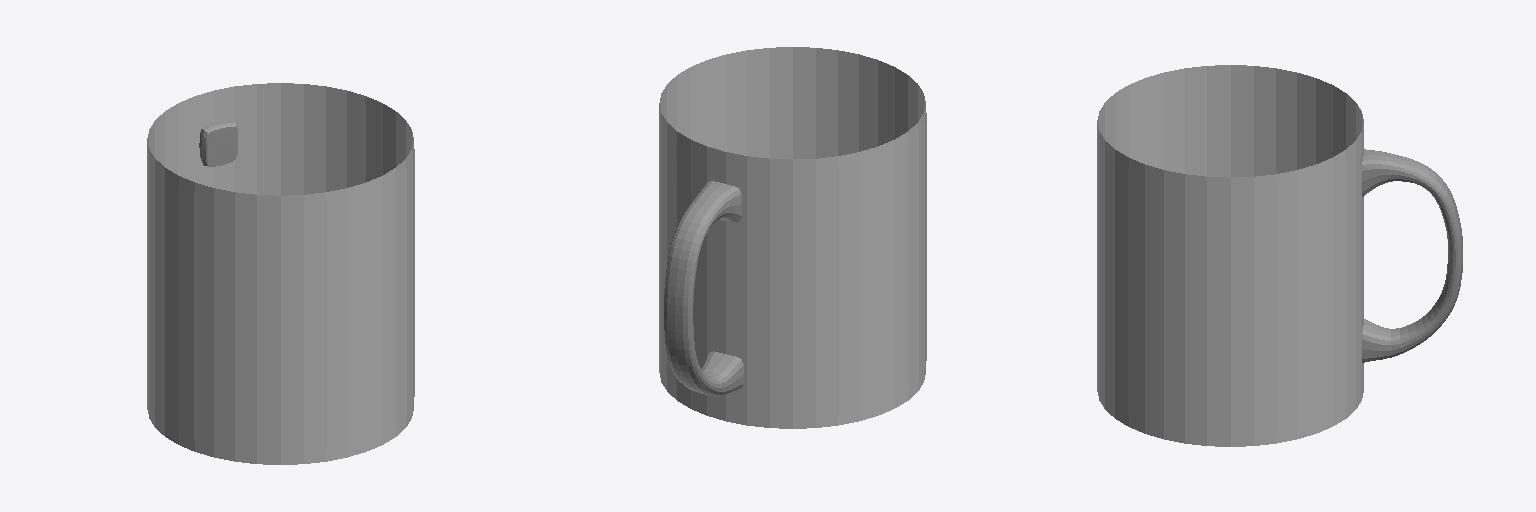
The model's file is outside_mug.obj.
3 views of the same model, side by side, from view 1: azimuth 30°, elevation 25°; view 2: azimuth 150°, elevation 25°; view 3: azimuth 270°, elevation 25° (orthographic).
Parts seen in each view (by area): view 1: Cup.001_Cup.001_Outside.001, Porcelin.001_Porcelin.001__1_-_Default.000_Porcelin.001_Porcelin, Handle_PIVOT_Handle.001_Handle_PIVOT_Handle.001_Handle.001; view 2: Porcelin.001_Porcelin.001__1_-_Default.000_Porcelin.001_Porcelin, Cup.001_Cup.001_Outside.001, Handle_PIVOT_Handle.001_Handle_PIVOT_Handle.001_Handle.001; view 3: Cup.001_Cup.001_Outside.001, Porcelin.001_Porcelin.001__1_-_Default.000_Porcelin.001_Porcelin, Handle_PIVOT_Handle.001_Handle_PIVOT_Handle.001_Handle.001.
Boxes of the visible parts, <box> form: Cup.001_Cup.001_Outside.001: <box>147,149,414,451</box>; Porcelin.001_Porcelin.001__1_-_Default.000_Porcelin.001_Porcelin: <box>147,83,413,464</box>; Handle_PIVOT_Handle.001_Handle_PIVOT_Handle.001_Handle.001: <box>199,121,237,166</box>; Porcelin.001_Porcelin.001__1_-_Default.000_Porcelin.001_Porcelin: <box>659,47,925,428</box>; Cup.001_Cup.001_Outside.001: <box>659,113,926,415</box>; Handle_PIVOT_Handle.001_Handle_PIVOT_Handle.001_Handle.001: <box>664,181,743,395</box>; Cup.001_Cup.001_Outside.001: <box>1097,136,1346,433</box>; Porcelin.001_Porcelin.001__1_-_Default.000_Porcelin.001_Porcelin: <box>1097,65,1363,446</box>; Handle_PIVOT_Handle.001_Handle_PIVOT_Handle.001_Handle.001: <box>1362,149,1462,362</box>.
Size of the model in its own units: 6.18 by 6.85 by 8.44.